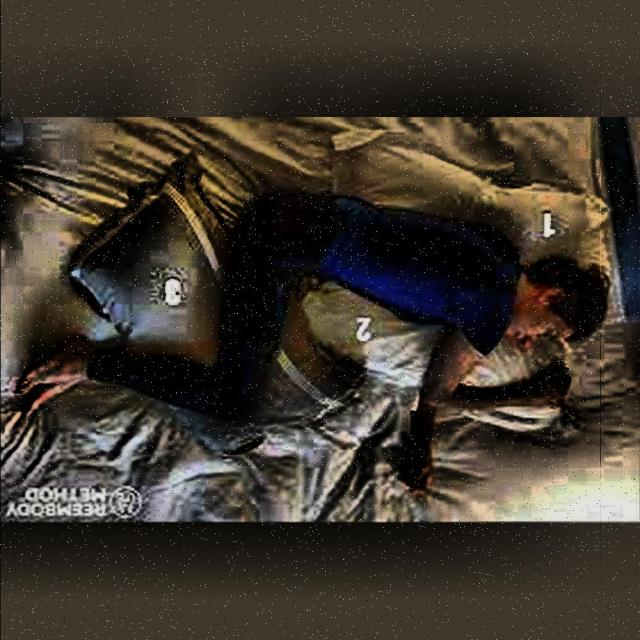Not_Supine: (2, 194, 610, 421)
